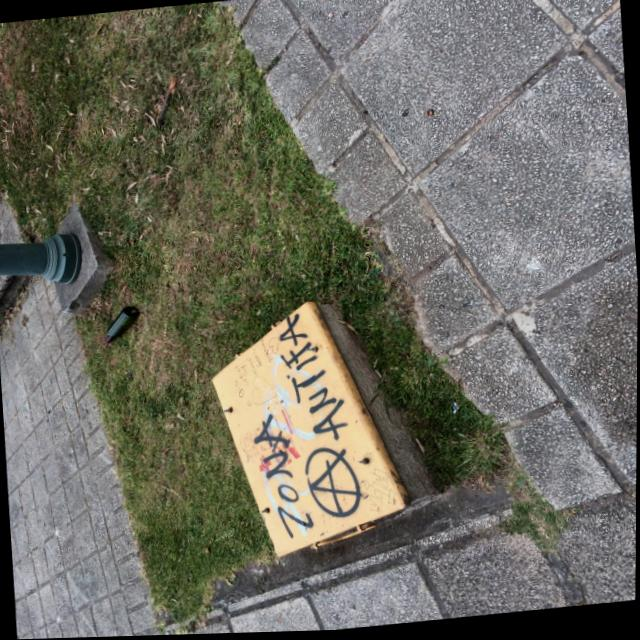Bottle-Glass: (93, 300, 151, 350)
